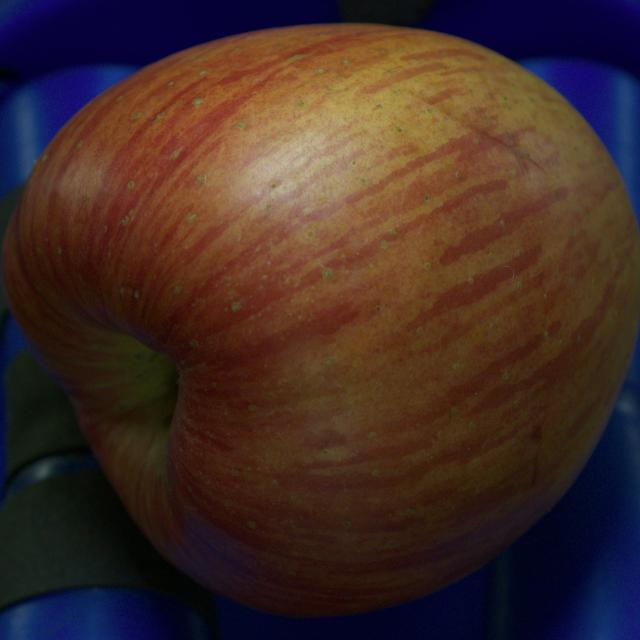apple: (1, 25, 639, 616)
scratch: (405, 86, 547, 168)
